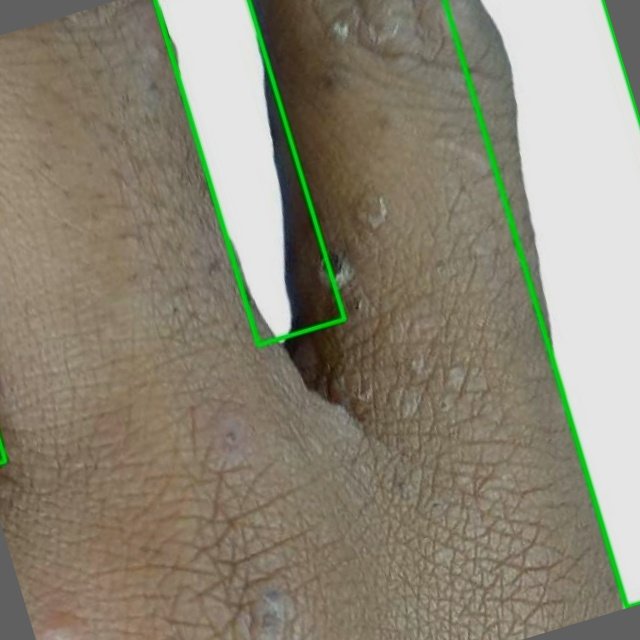Scabies: (155, 0, 344, 345)
